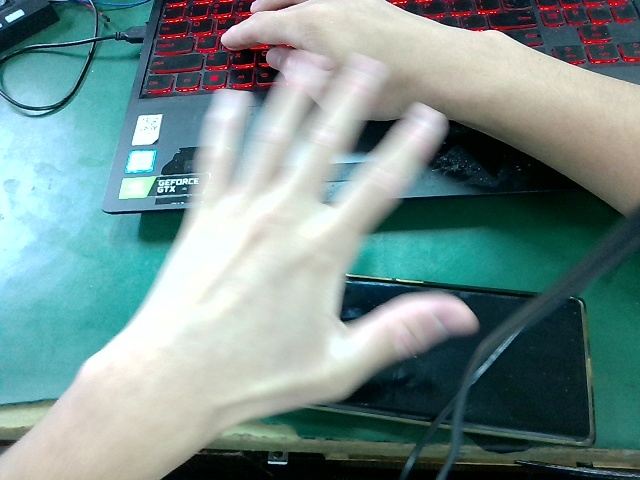paper: (108, 33, 493, 431)
